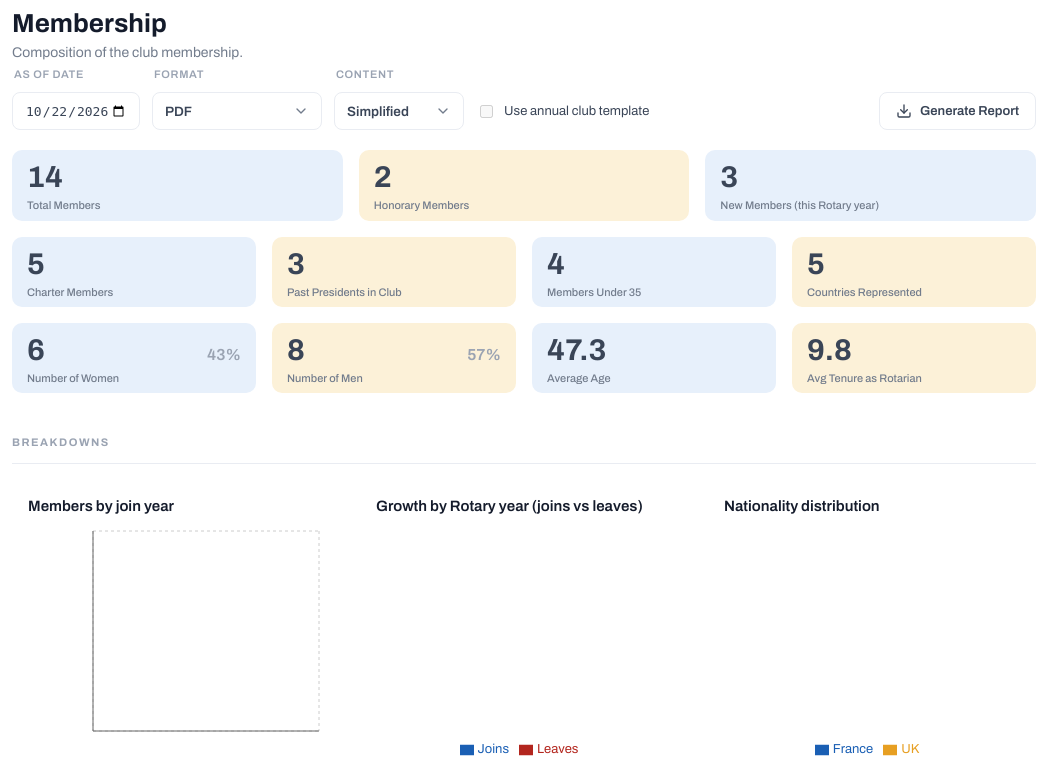
Scenario: MembersStatistics › Generate Report › enables the template checkbox once a template exists for pptx format
The width and height of the screenshot is (1048, 780).
expect the text "Total Members" is shown: met, box [27, 199, 100, 211]
Click the button with aria-label "Format": click(237, 111) [152, 92, 322, 130]
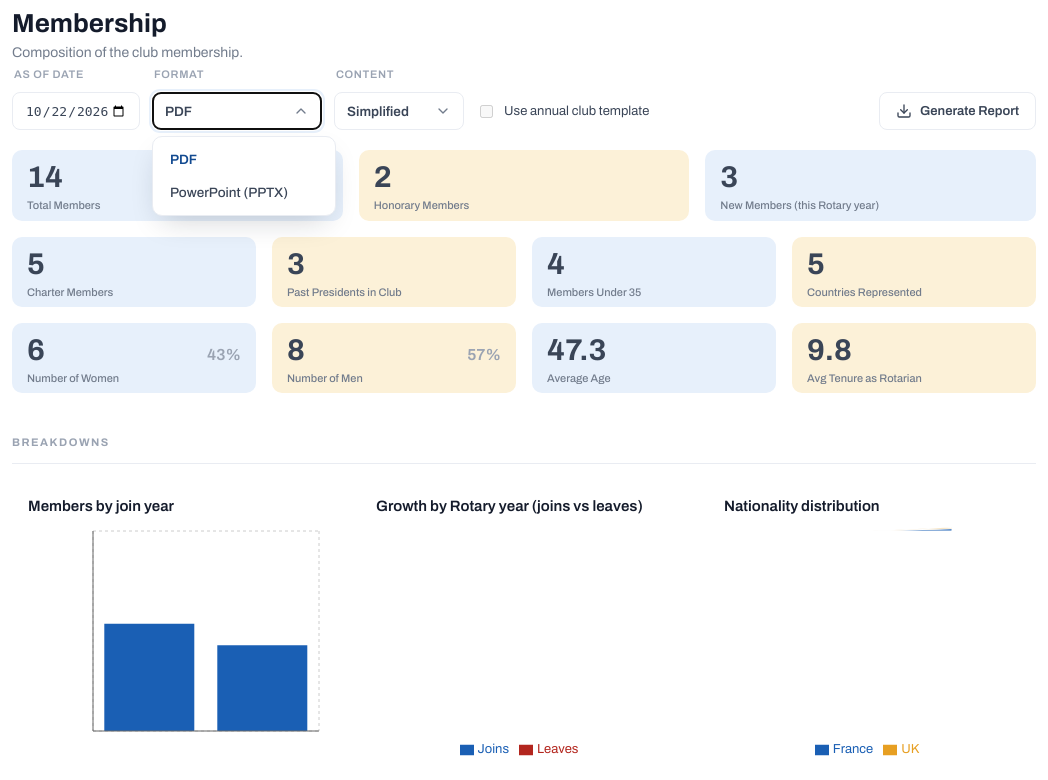
Click the option "PowerPoint (PPTX)": click(244, 193) [159, 176, 329, 209]
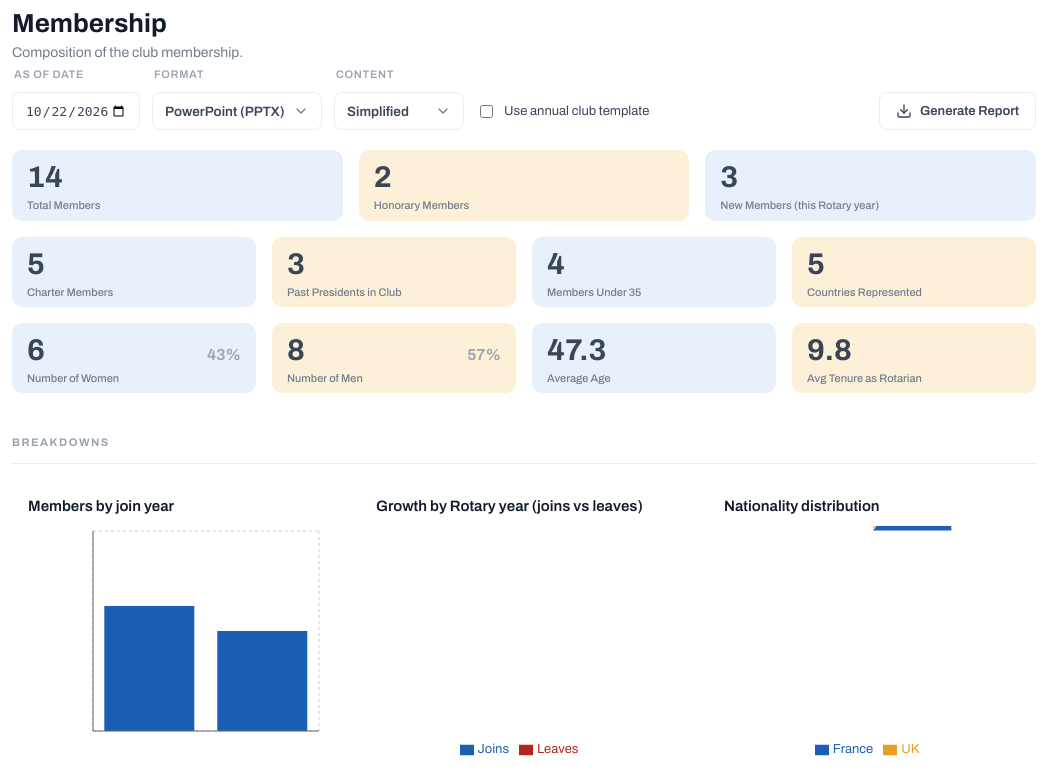
expect the checkbox labelled "Use annual club template" is enabled: met, box [480, 105, 493, 118]
